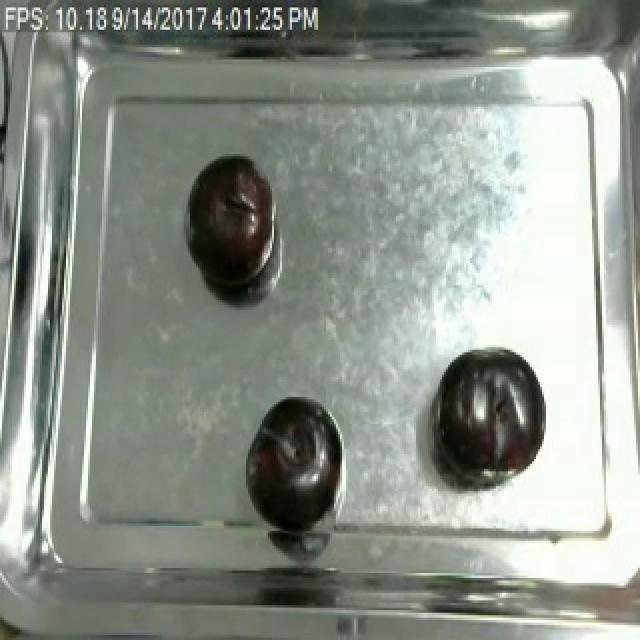Fruit: (430, 344, 552, 488), (240, 392, 350, 533), (182, 152, 274, 296)
